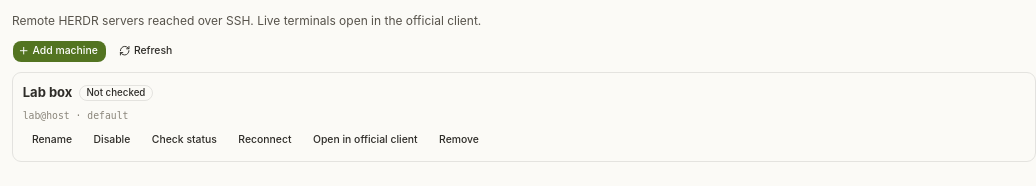
Test: MachinesPanel actions › renames inline and adopts the returned list
Expected: the text "Lab box" is shown, [23, 83, 72, 102]
Click the button "Rename": (52, 140) [23, 128, 81, 151]
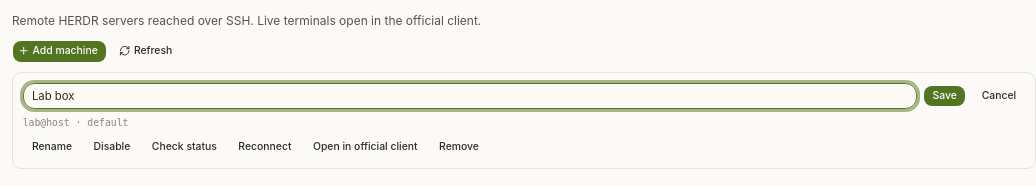
Replace the text in the field named "Machine name" with " Renamed ": (470, 96) [23, 83, 917, 109]
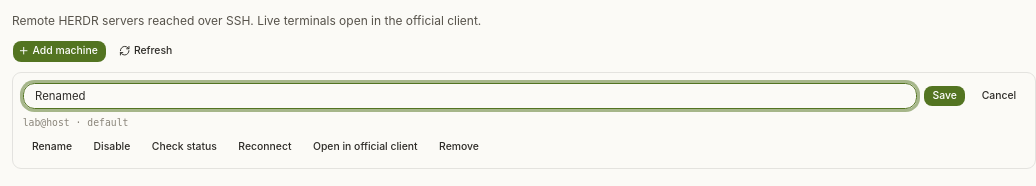
Click the button "Save": (945, 96) [923, 85, 966, 107]
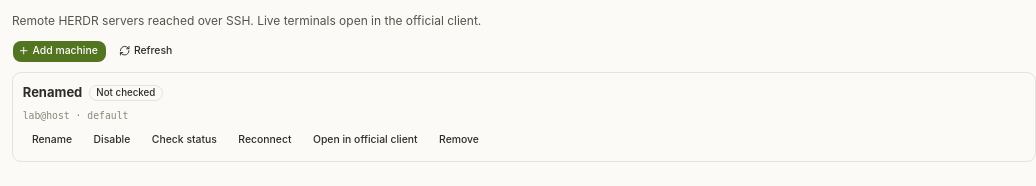
Now the text "Renamed" is shown, box [23, 83, 82, 102]
